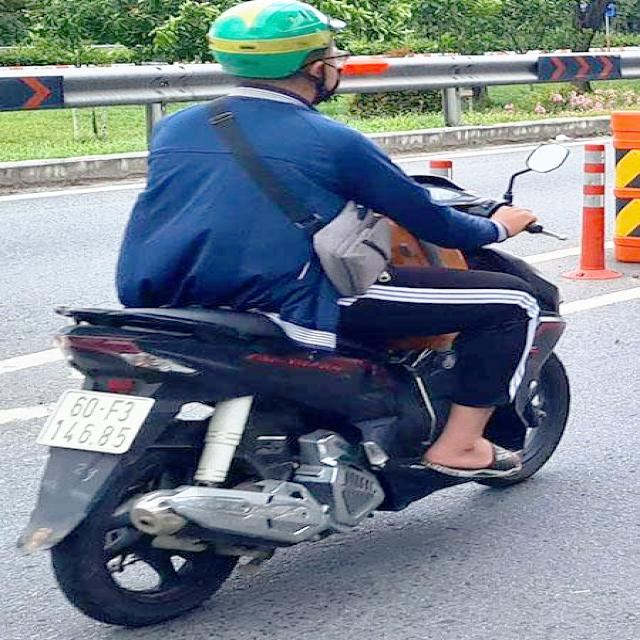license_plate: (39, 390, 155, 452)
